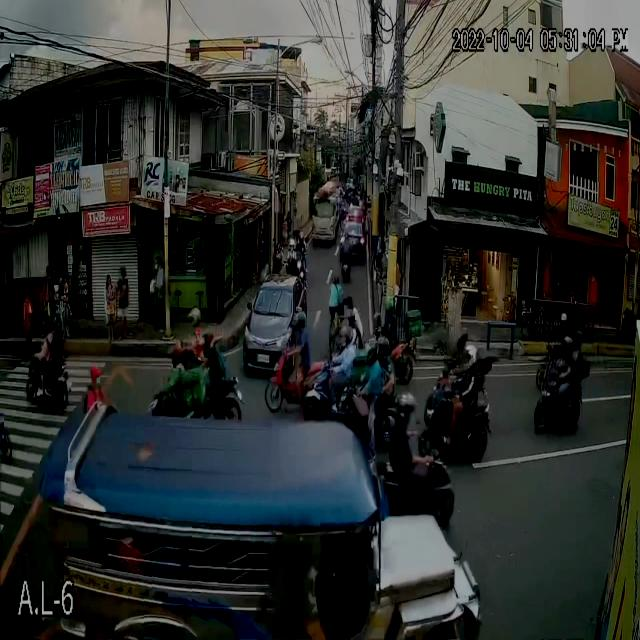Full-Faced: (185, 306, 206, 337), (396, 394, 413, 424), (335, 325, 350, 355), (382, 293, 398, 317), (460, 347, 478, 368), (557, 334, 571, 360), (174, 337, 186, 365), (377, 335, 389, 363), (556, 312, 570, 331), (292, 314, 305, 334), (192, 338, 205, 356), (367, 344, 377, 367), (43, 318, 52, 337), (54, 318, 63, 334)
Half-Faced: (89, 361, 102, 382), (340, 298, 352, 312), (332, 279, 338, 292)
